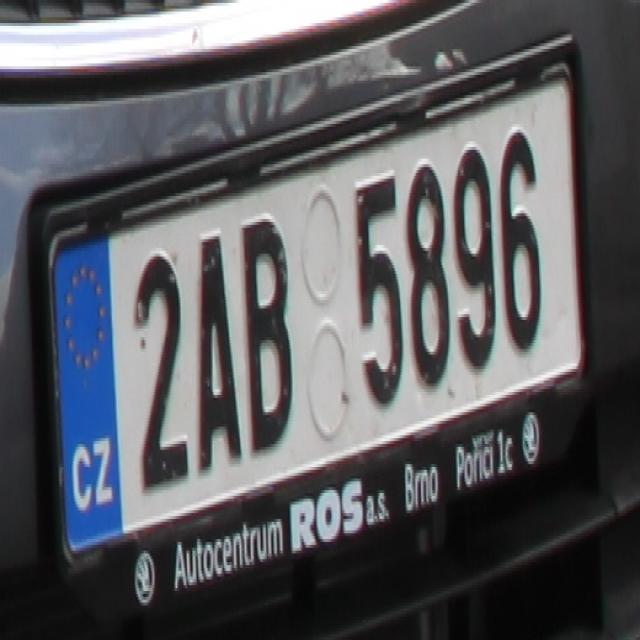2: (134, 248, 192, 493)
5: (356, 173, 402, 406)
6: (497, 124, 544, 363)
8: (404, 156, 453, 389)
9: (452, 138, 498, 364)
A: (195, 233, 242, 473)
B: (241, 216, 293, 444)
